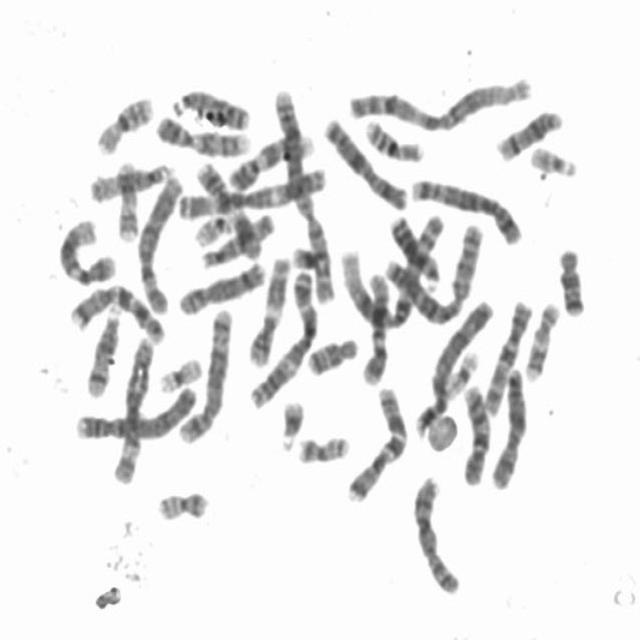A1: (332, 206, 446, 330), (343, 70, 534, 133)
A2: (270, 83, 338, 305), (382, 214, 487, 326)
A3: (246, 262, 320, 409), (172, 160, 332, 221)
B4: (410, 293, 496, 438), (71, 380, 199, 443)
B5: (174, 300, 236, 447), (406, 172, 524, 246)
C10: (479, 292, 535, 418), (458, 378, 492, 488)
C11: (192, 157, 266, 261), (245, 251, 292, 369)
C12: (54, 213, 119, 287), (358, 266, 390, 386)
C6: (130, 169, 187, 315), (110, 330, 159, 485)
C7: (341, 381, 408, 504), (63, 278, 168, 344)
C8: (408, 469, 464, 597), (174, 254, 270, 316)
C9: (224, 128, 318, 194), (150, 110, 252, 158)
D13: (383, 211, 442, 292), (168, 83, 254, 131)
D14: (492, 102, 566, 162), (81, 299, 123, 400)
D15: (196, 206, 278, 269), (85, 157, 174, 203)
E16: (91, 89, 156, 156), (360, 113, 426, 163)
E17: (521, 295, 562, 383), (111, 155, 141, 244)
E18: (302, 330, 360, 378), (553, 242, 589, 318)
F19: (439, 343, 482, 400), (156, 351, 204, 394)
F20: (292, 427, 352, 466), (152, 484, 212, 522)
G21: (274, 392, 306, 452), (288, 240, 328, 272)
G22: (526, 139, 580, 179), (190, 209, 237, 248)
X: (318, 111, 409, 212), (487, 363, 530, 491)
